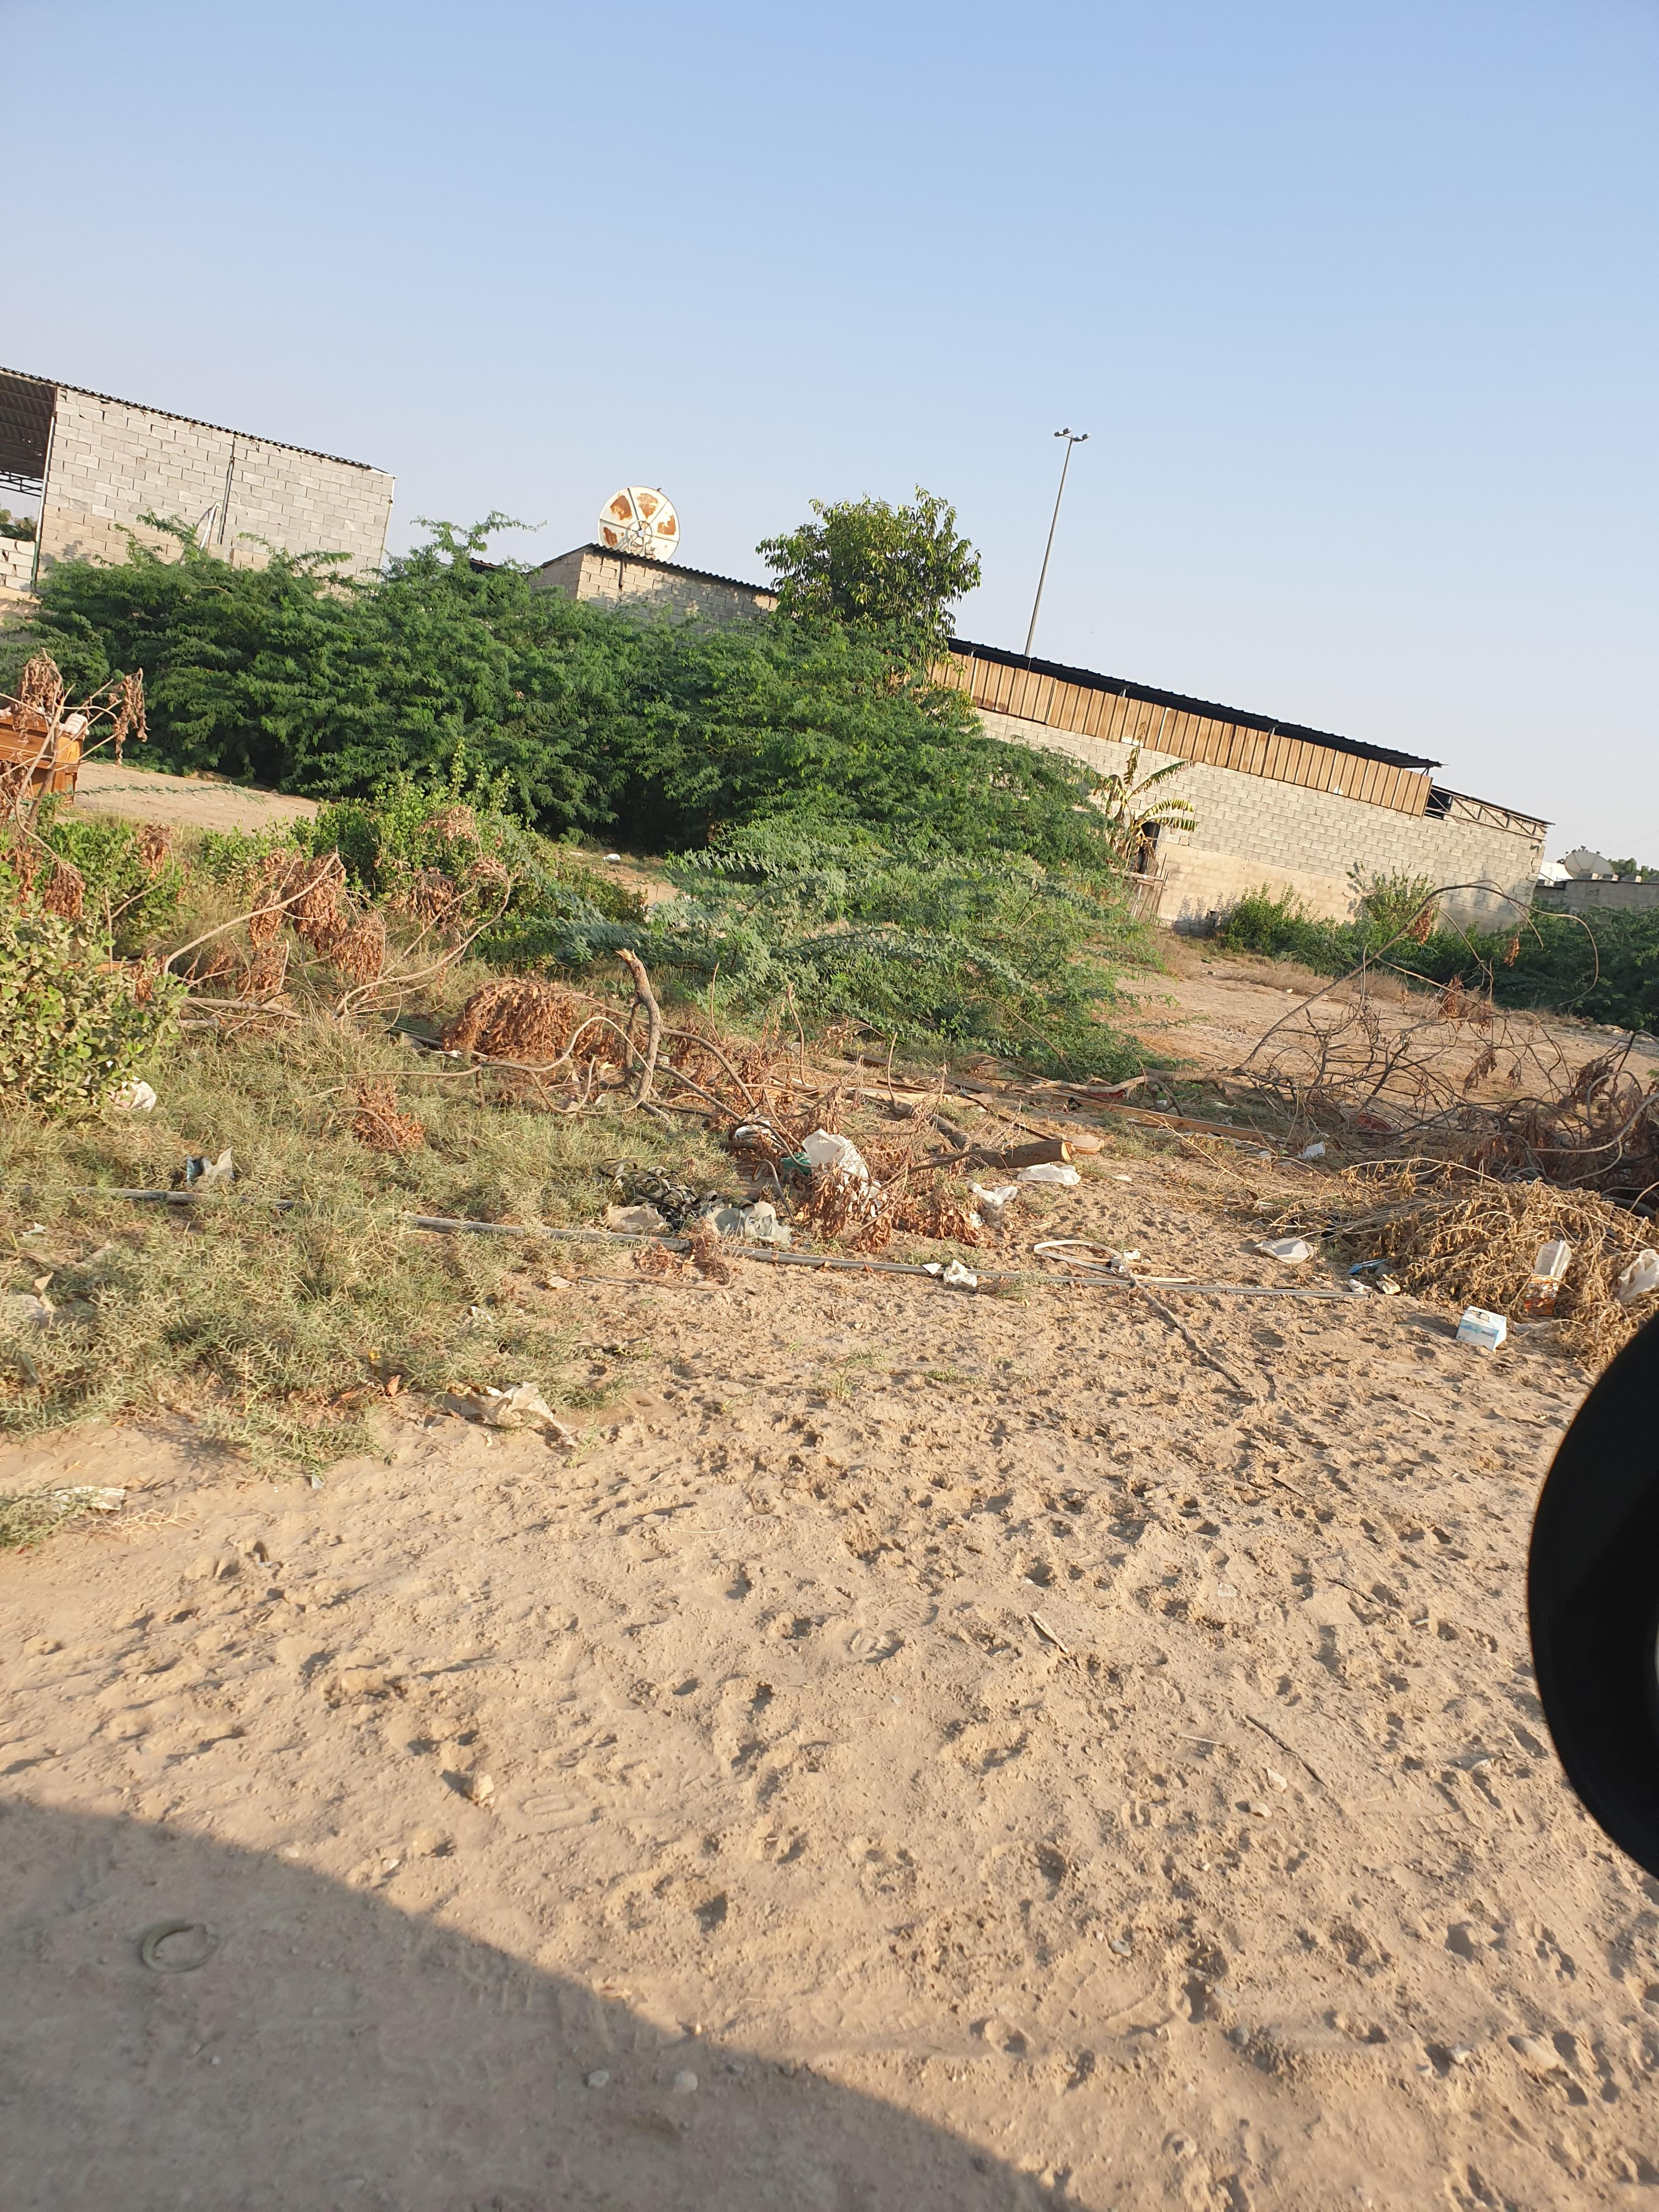fallen_trees: (659, 1028, 1154, 1299), (1237, 1085, 1652, 1406), (1249, 961, 1595, 1205), (420, 956, 762, 1137)
